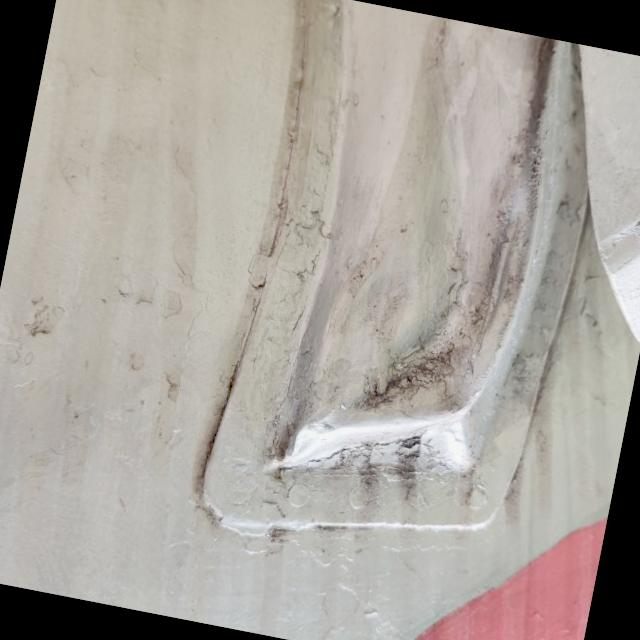dent: (232, 0, 607, 542)
